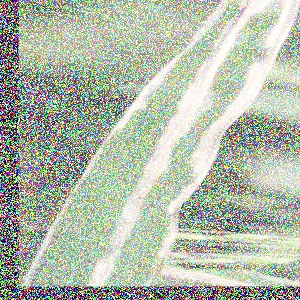Leaf_Blast: (149, 0, 274, 212)
